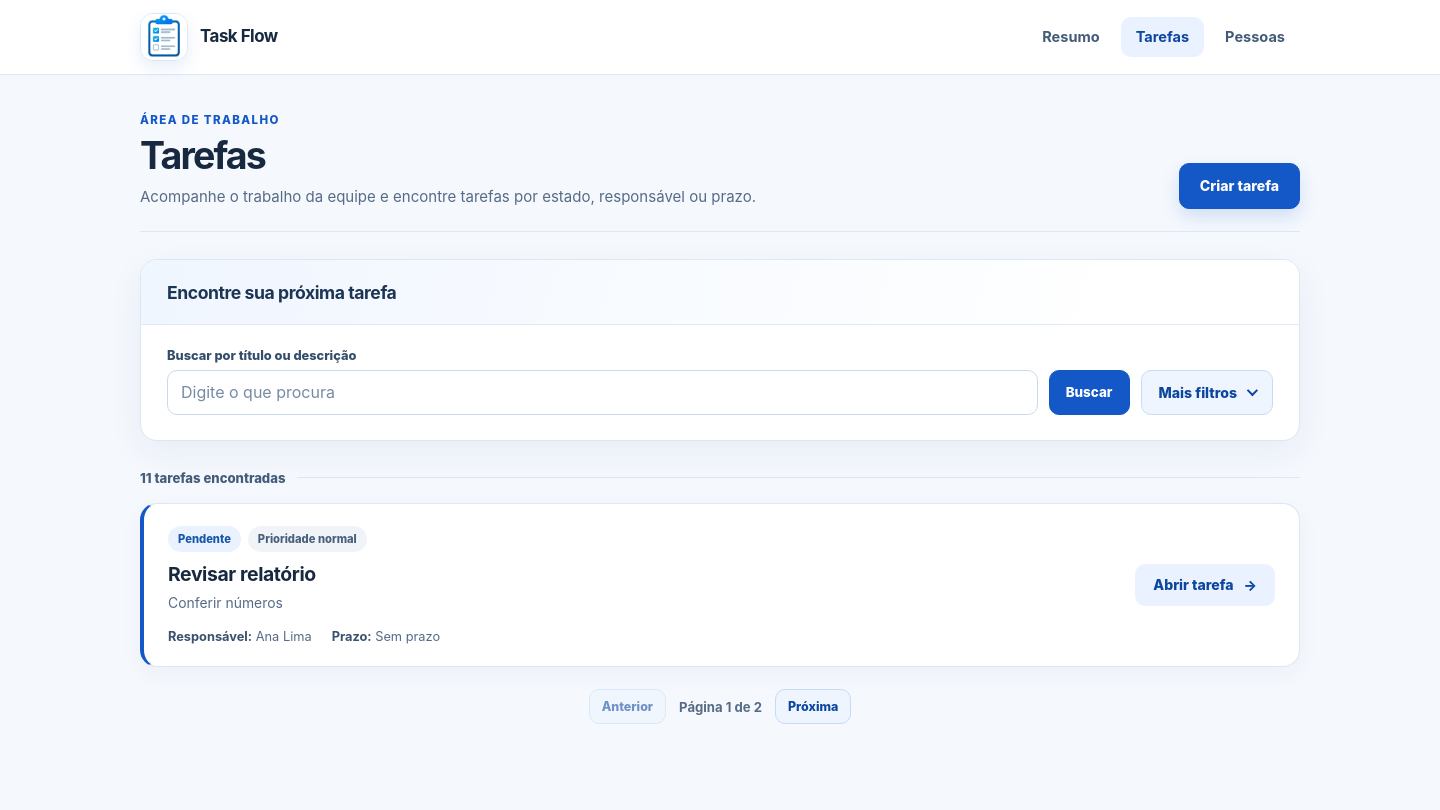
Scenario: paginação de tarefas mantém o botão focado durante a nova página
Click the button "Próxima": (813,707) [775,689,851,724]
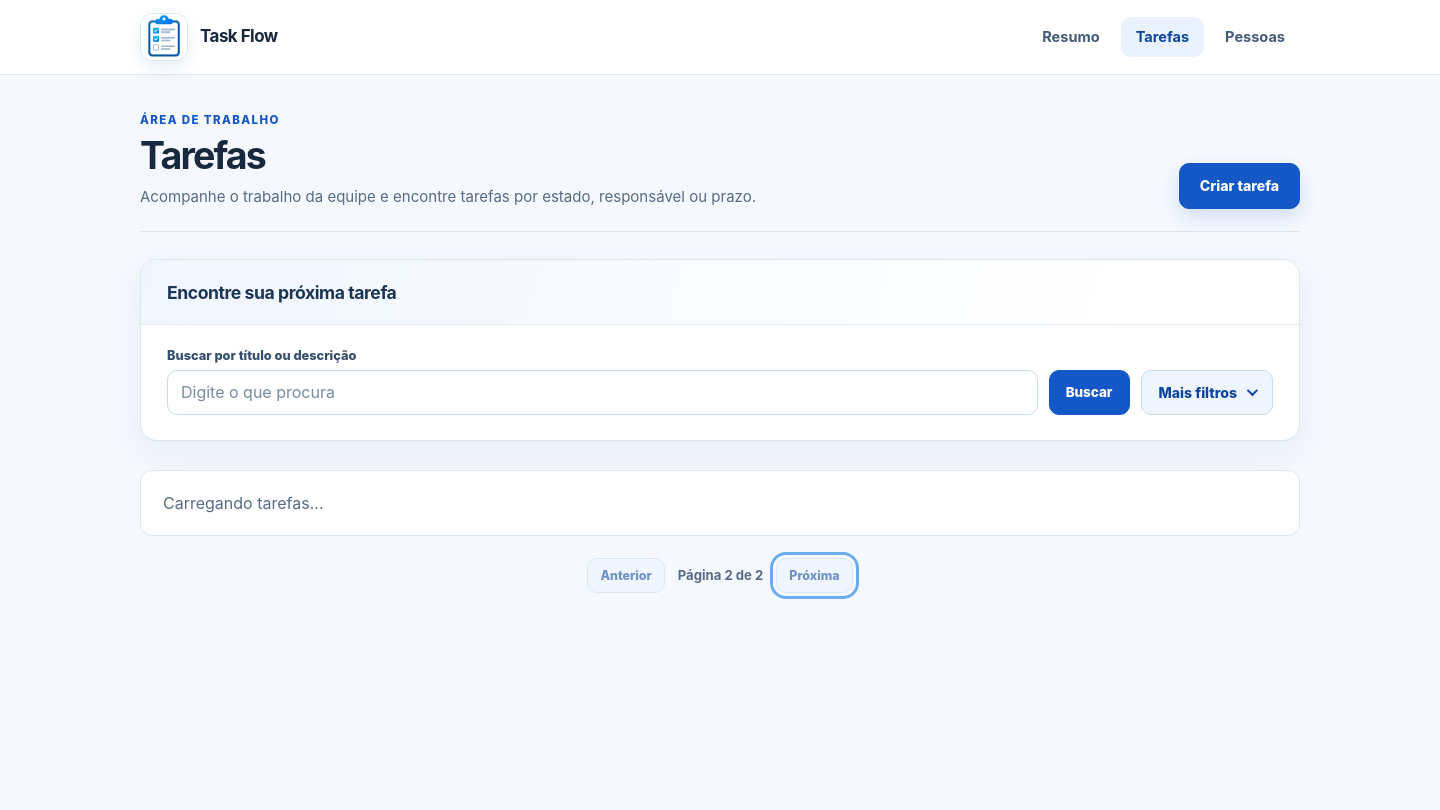
Result: the text "Carregando tarefas..." is shown at [140,470,1300,536]
Click the button "Próxima": (814,575) [776,558,853,593]
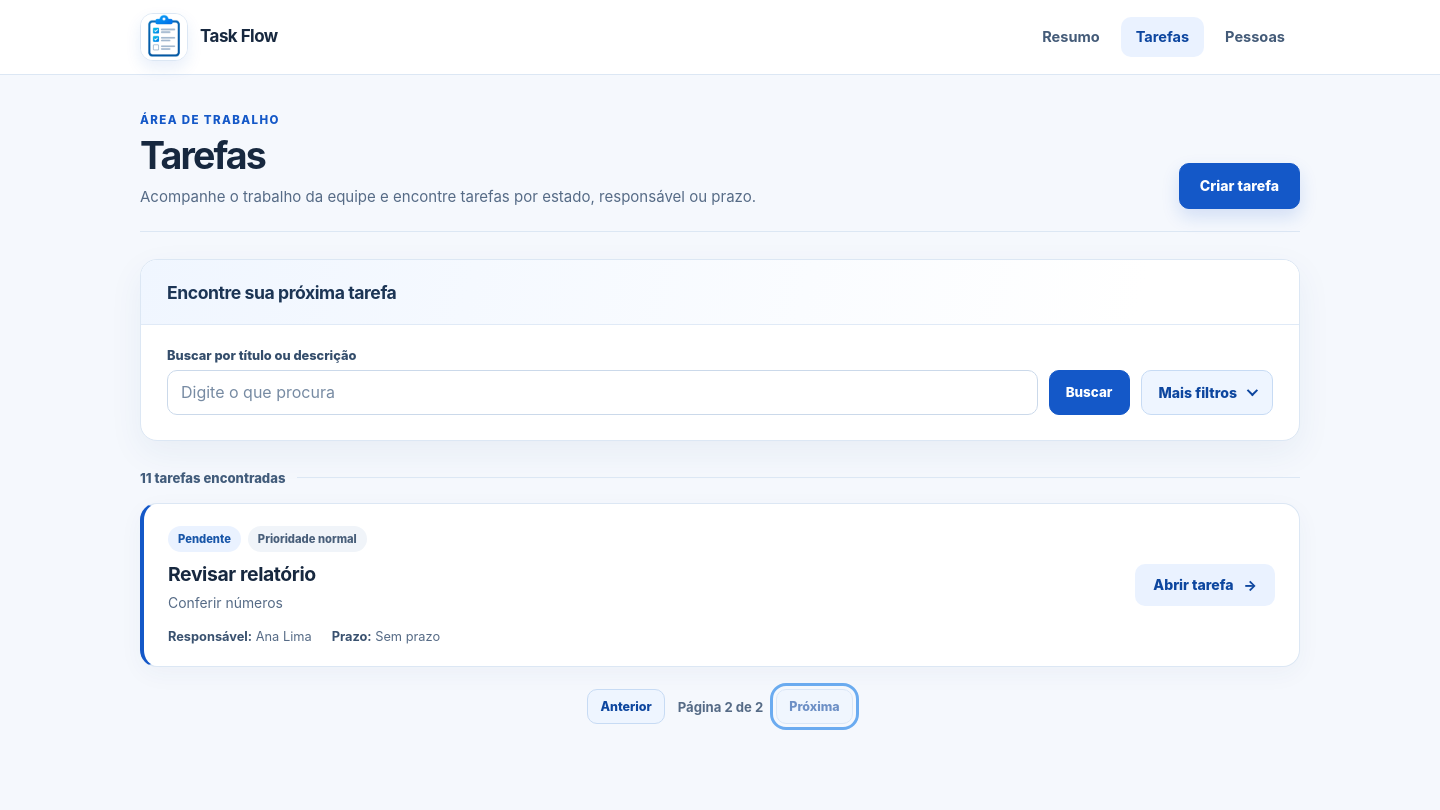
Result: the text "Carregando tarefas..." is gone
